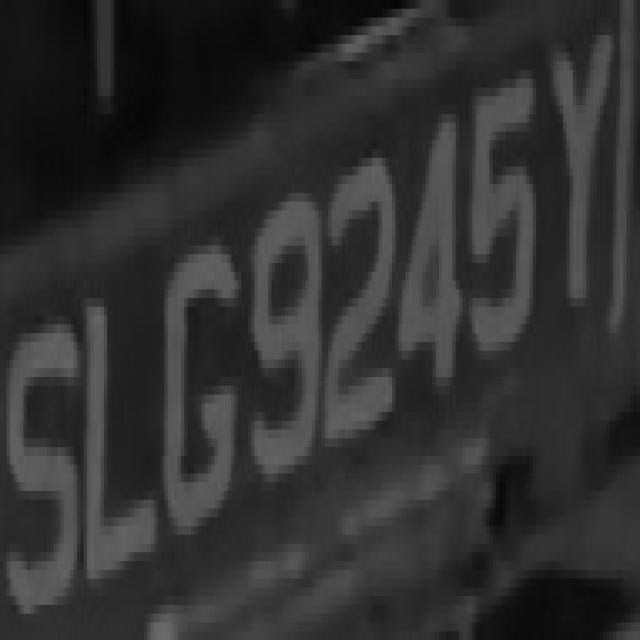2: (318, 132, 402, 474)
4: (396, 79, 462, 429)
5: (456, 61, 532, 386)
9: (241, 175, 322, 491)
G: (168, 219, 241, 561)
L: (77, 298, 164, 614)
S: (4, 298, 80, 623)
Y: (536, 0, 620, 359)
